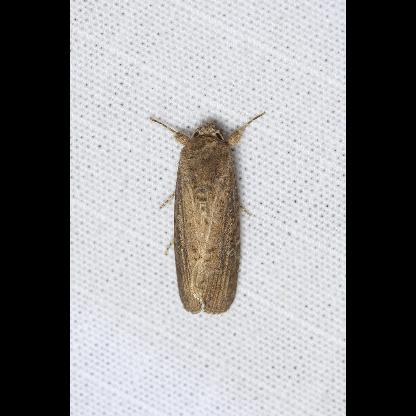Fall Armyworm Moth: (147, 107, 269, 316)
